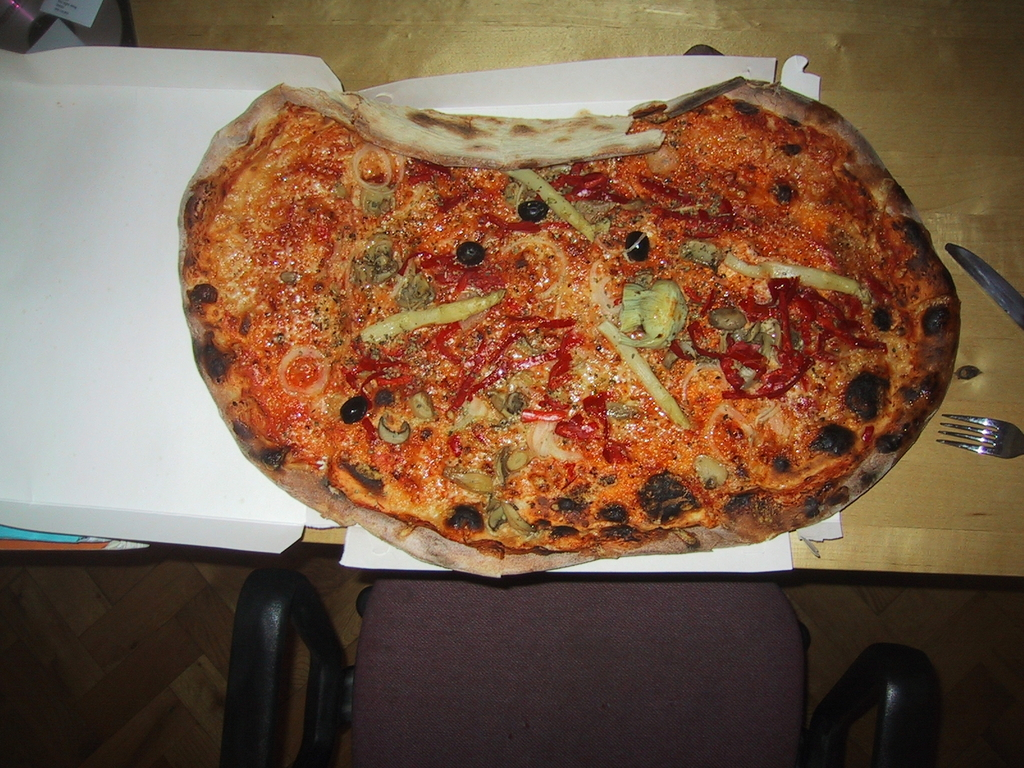Pizza: (193, 72, 958, 586)
